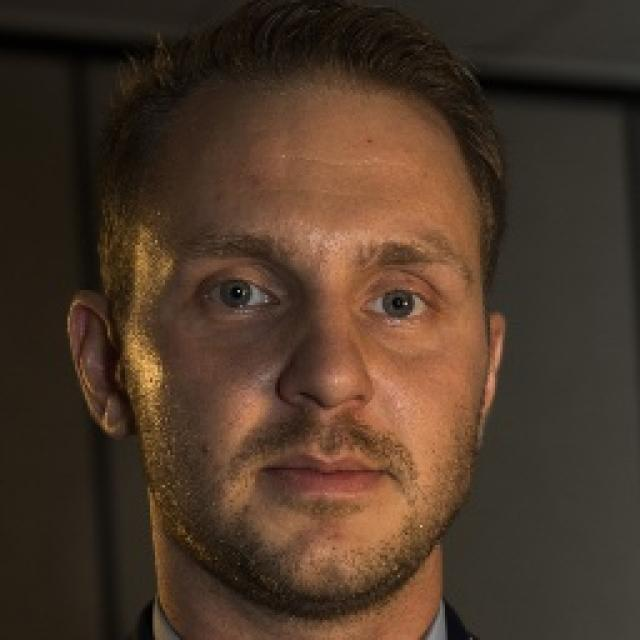earlobe: (96, 387, 138, 443)
eye: (200, 278, 279, 314), (361, 288, 433, 322)
nose: (276, 382, 383, 452)
wholeear: (66, 290, 139, 443), (476, 313, 505, 449)
